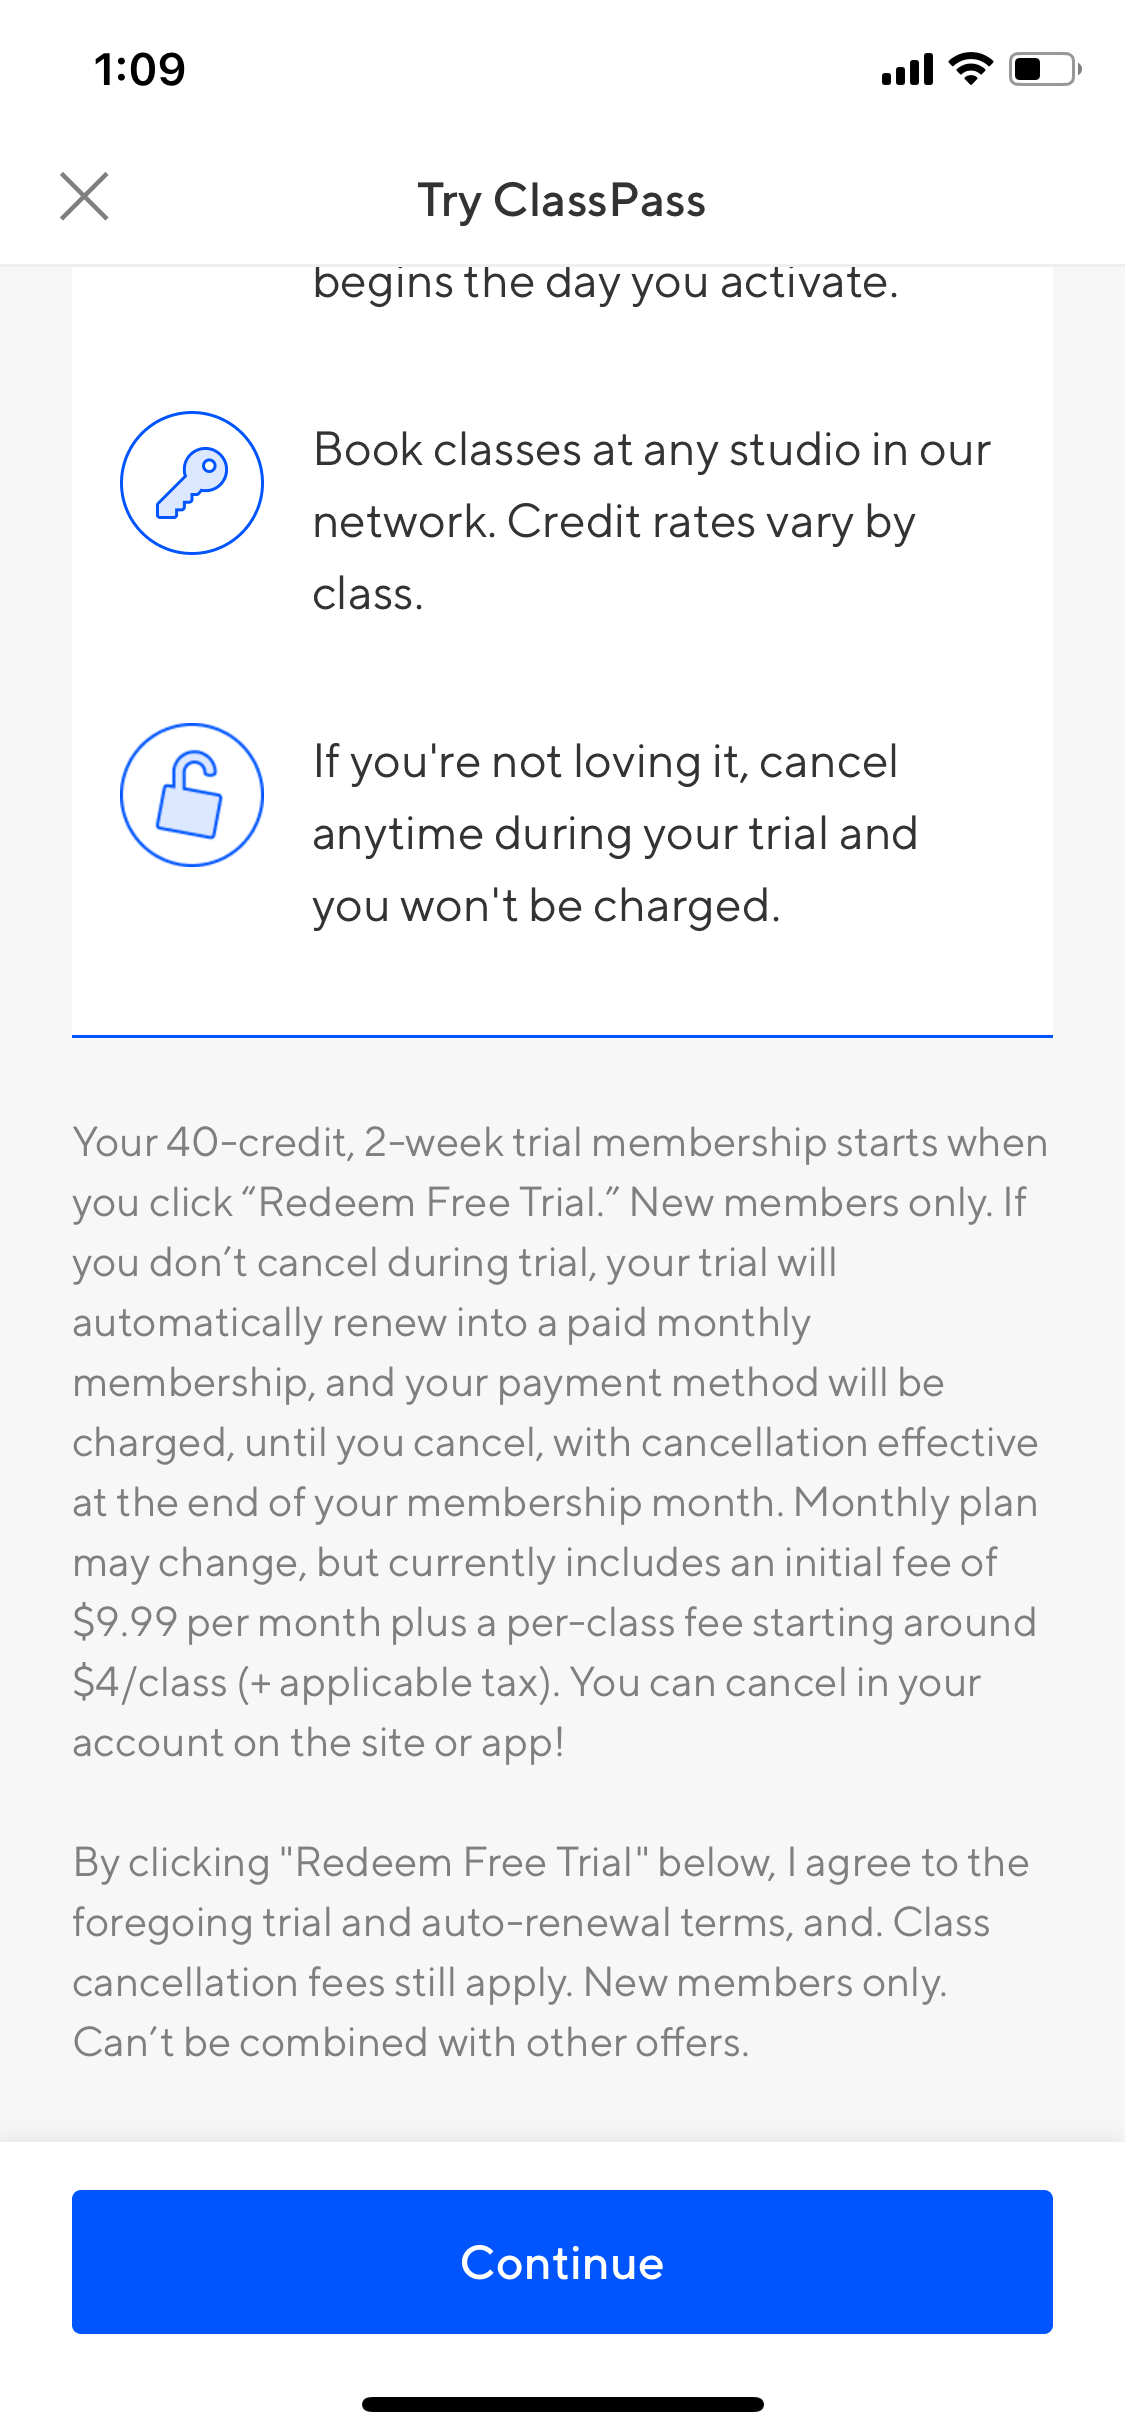Buttons: (54, 2170, 1064, 2347), (22, 127, 155, 269)
